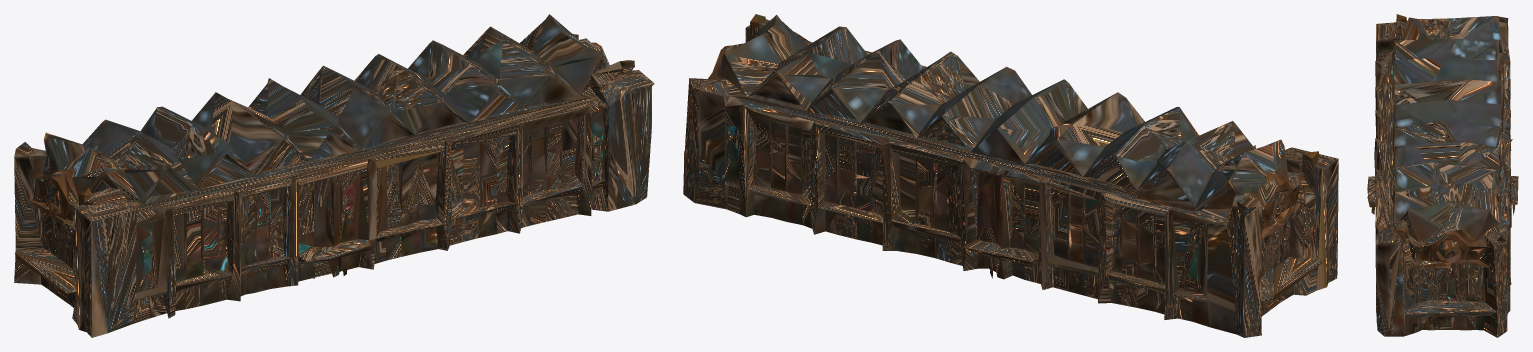
Rendered from h03_far.glb.
3 renders of one model, left to right at view 1: azimuth 30°, elevation 25°; view 2: azimuth 150°, elevation 25°; view 3: azimuth 270°, elevation 25°, orthographic. The views are drawn at different scales.
Visible parts, largest first — view 1: h03_far; view 2: h03_far; view 3: h03_far.
Part boxes in pixels (x1,y1,x2,y2): h03_far: (14, 14, 654, 337); h03_far: (683, 14, 1338, 337); h03_far: (1367, 14, 1518, 337).
Size of the model in its own units: 73.82 by 18 by 20.94.
1 material, 1 textured.
